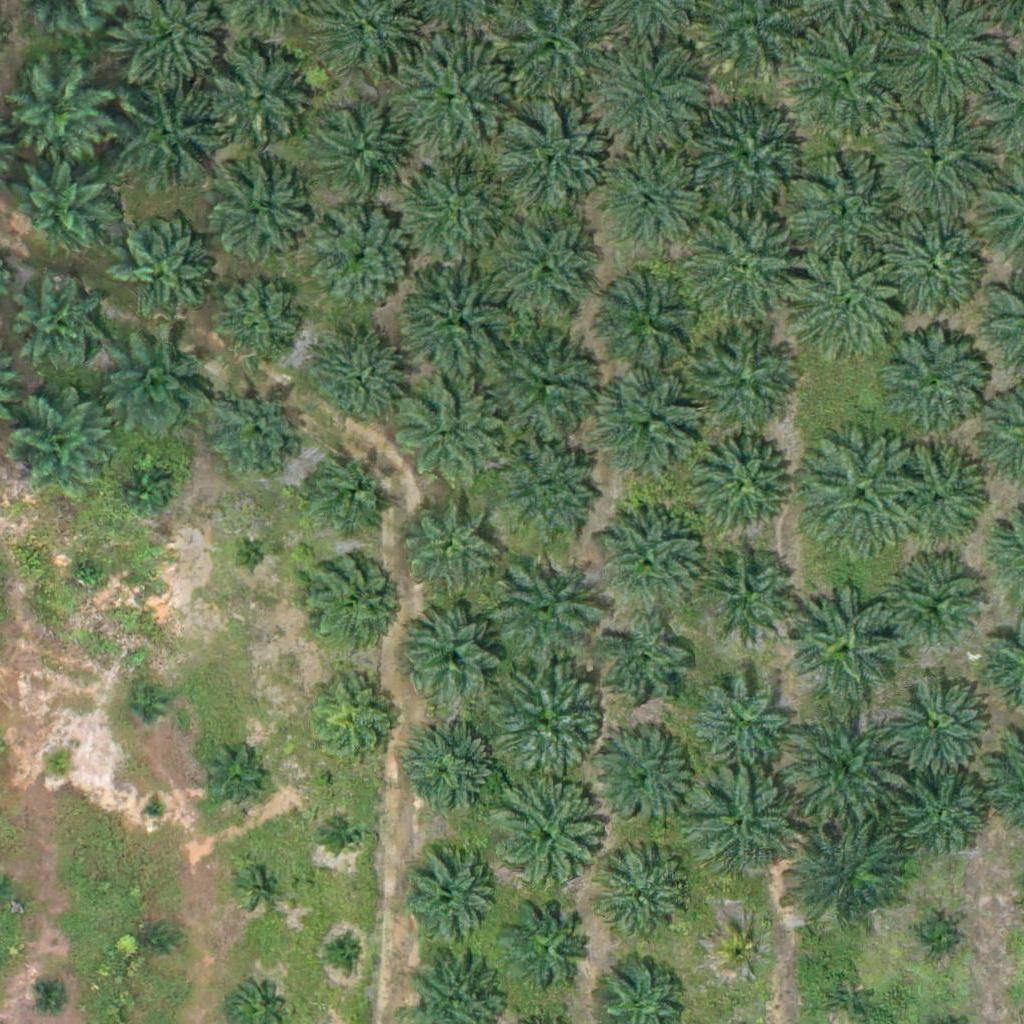Kelapa_Sawit: (393, 258, 518, 384), (390, 151, 515, 277), (390, 29, 515, 155), (491, 102, 616, 228), (484, 322, 609, 448), (586, 40, 711, 166), (684, 93, 809, 219), (680, 204, 805, 330), (788, 249, 913, 375), (781, 151, 906, 277), (875, 92, 1000, 218), (871, 199, 996, 325), (867, 320, 992, 446), (796, 431, 921, 557), (781, 701, 906, 827), (789, 812, 914, 938), (482, 659, 607, 784), (482, 778, 607, 903), (113, 82, 226, 195), (104, 331, 217, 444), (489, 215, 602, 328), (689, 770, 802, 883), (594, 505, 707, 618), (491, 436, 604, 549), (488, 554, 601, 667), (881, 662, 993, 776), (791, 582, 903, 696), (596, 265, 708, 378), (685, 331, 797, 444), (393, 381, 505, 494), (11, 155, 111, 256), (112, 222, 212, 323), (209, 170, 309, 271), (207, 49, 307, 150), (313, 208, 413, 309), (309, 333, 409, 434), (796, 28, 896, 129), (887, 438, 987, 539), (693, 671, 793, 772), (597, 617, 697, 718), (592, 726, 692, 827), (395, 487, 495, 588), (406, 604, 506, 705), (403, 723, 503, 824), (400, 851, 500, 952), (298, 442, 398, 543), (300, 548, 400, 649), (305, 669, 405, 770), (11, 396, 111, 497), (7, 65, 107, 165), (608, 160, 708, 260), (890, 553, 990, 653), (690, 433, 790, 533), (699, 541, 799, 641), (602, 377, 702, 477), (603, 855, 691, 944), (13, 279, 101, 367), (316, 113, 404, 201), (899, 773, 987, 861), (507, 906, 595, 994), (213, 387, 300, 476), (212, 280, 299, 368), (200, 750, 263, 813), (119, 464, 169, 515), (908, 912, 958, 963), (719, 929, 769, 979), (136, 922, 174, 960), (71, 557, 109, 595), (233, 538, 271, 576), (39, 747, 77, 785), (330, 816, 368, 854), (324, 933, 361, 971), (242, 866, 279, 904), (36, 977, 74, 1014), (123, 686, 160, 724), (142, 796, 167, 821)
